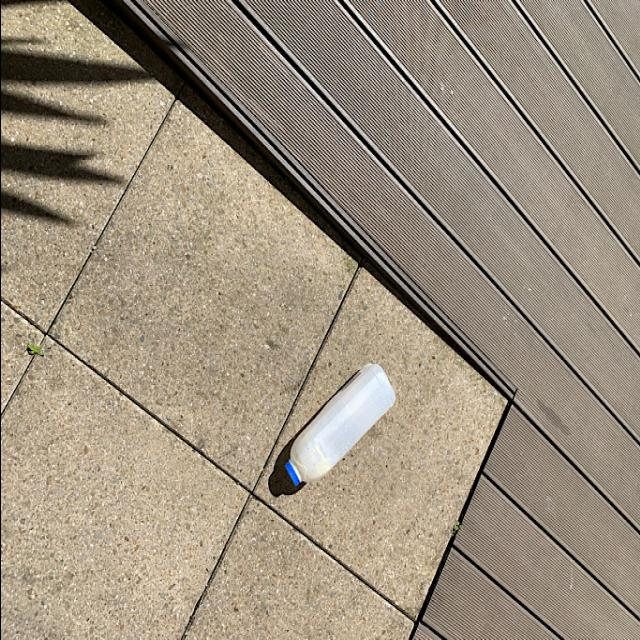HDPEM: (284, 367, 398, 488)
